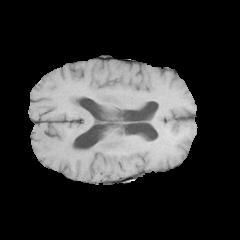glioma: (103, 153, 148, 182)
